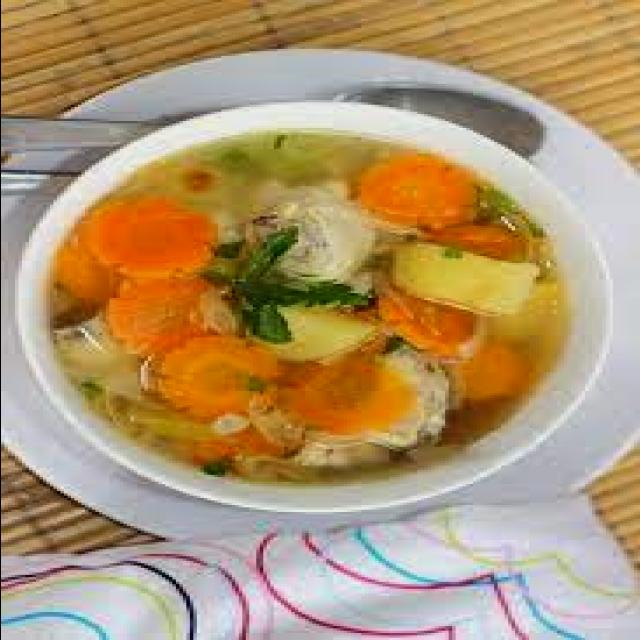sop: (10, 98, 612, 526)
